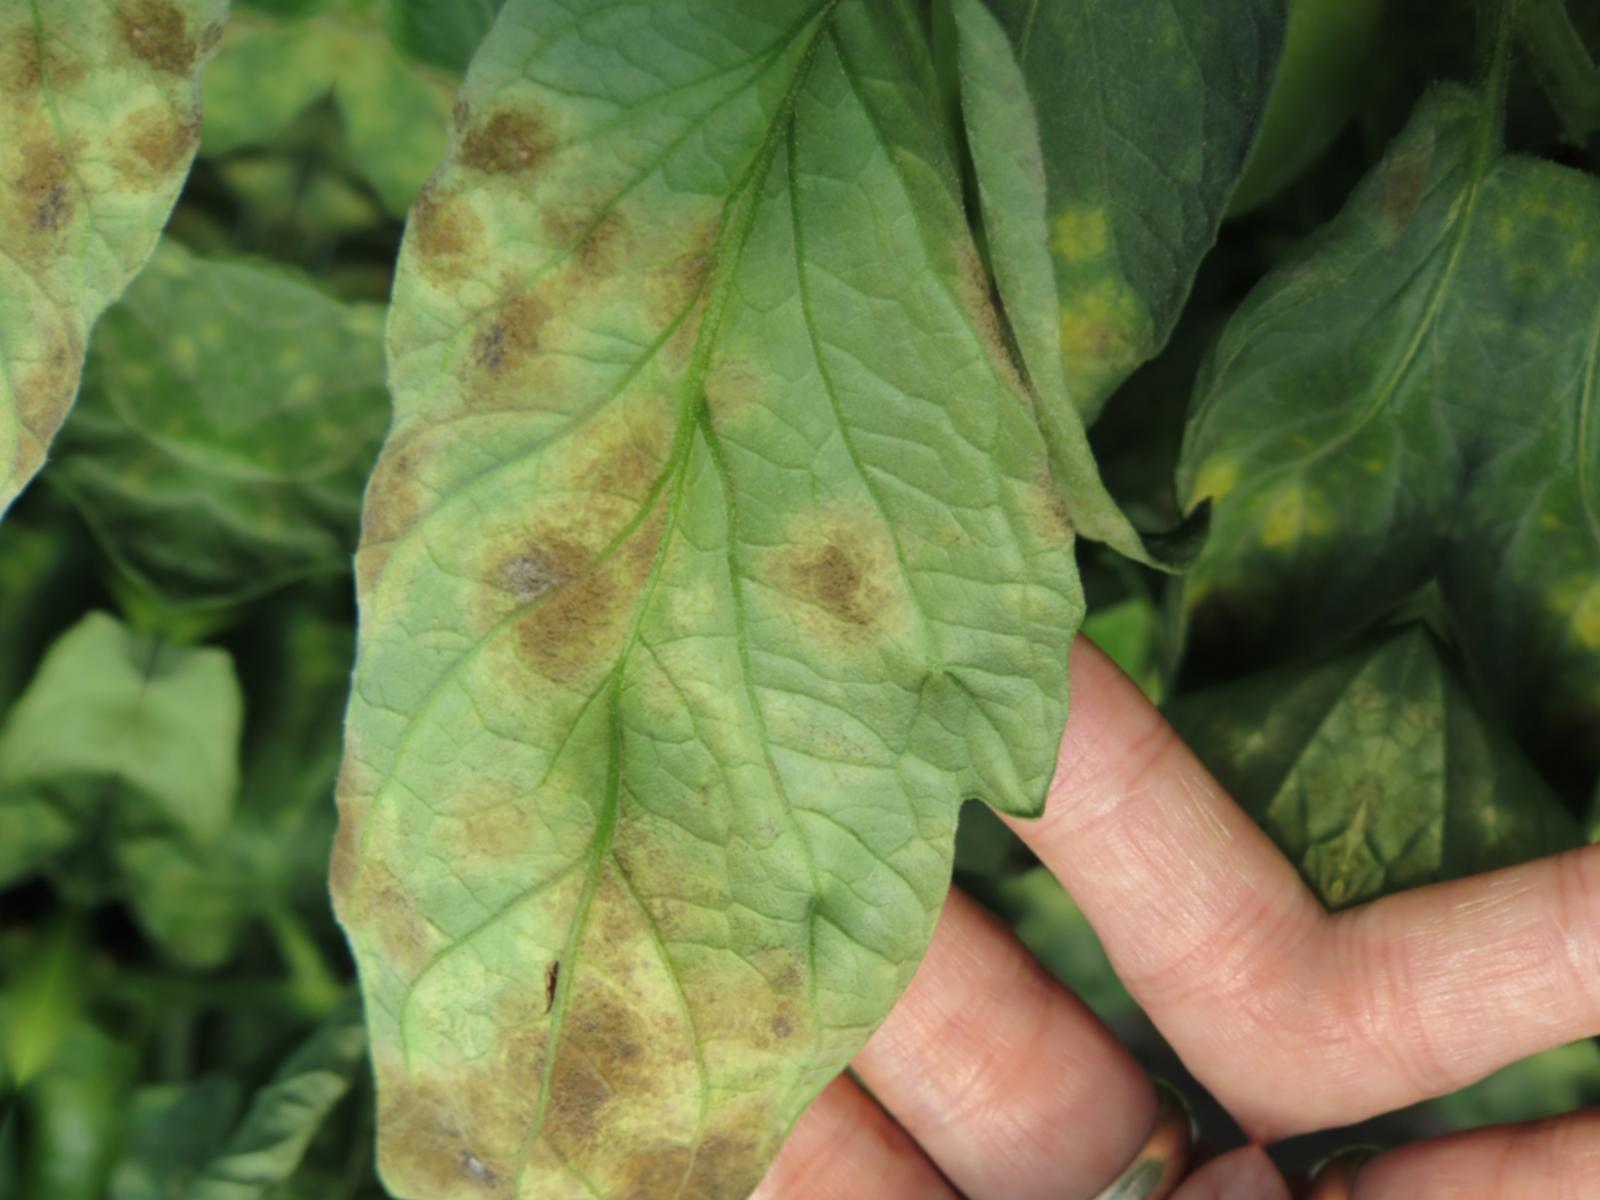Tomato mold leaf: (93, 0, 1304, 1200)
